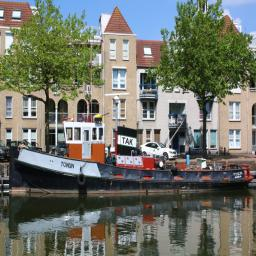tugboat: (9, 114, 256, 205)
